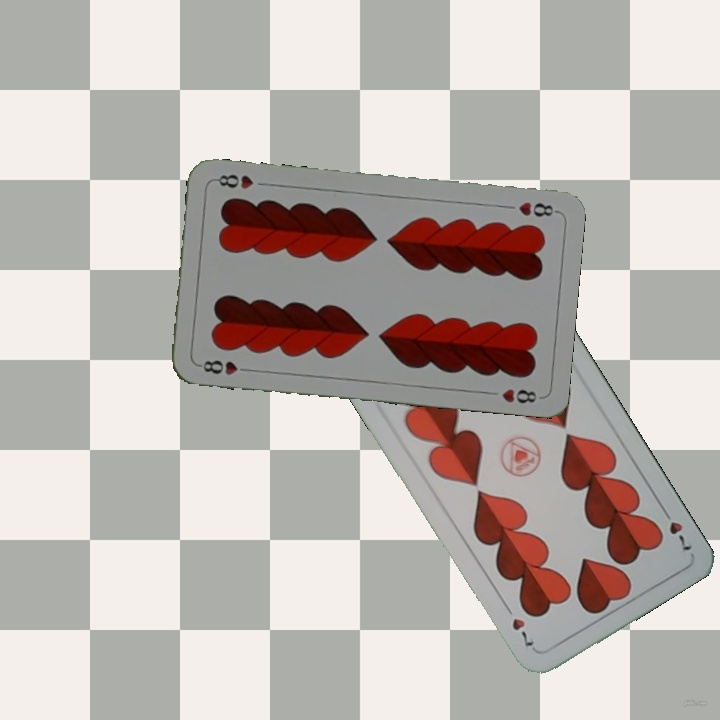H7: (657, 502, 695, 553)
H8: (194, 356, 254, 378), (514, 198, 559, 219)
